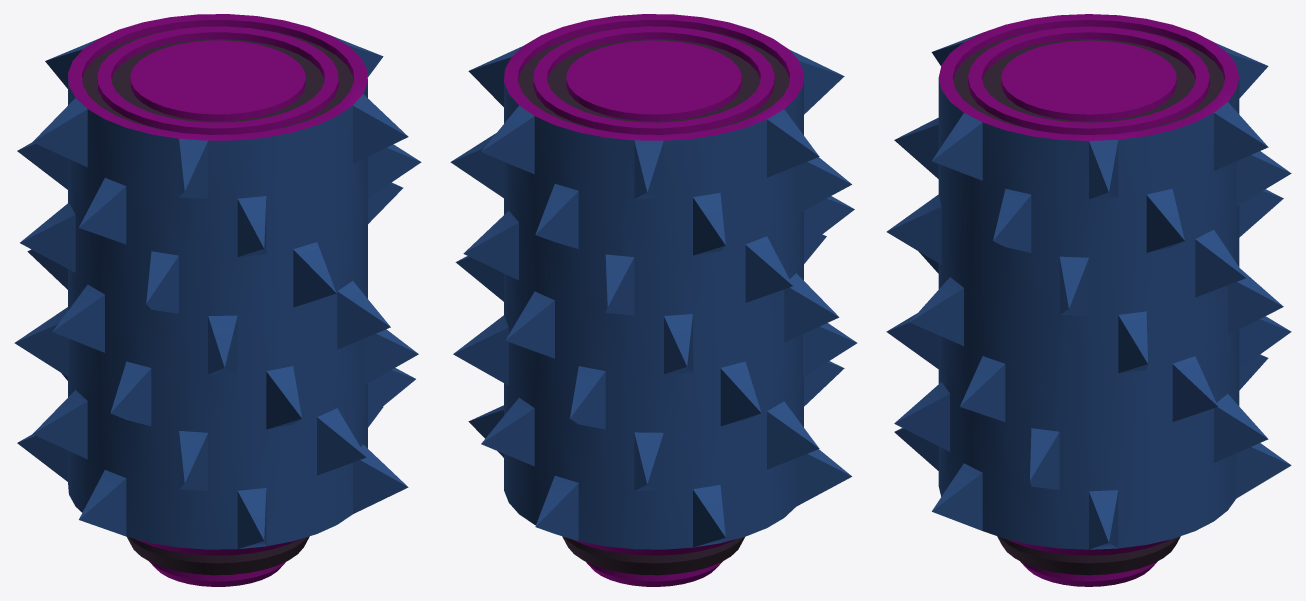
The model's file is Swing Trap End.fbx.
3 renders of one model, left to right at view 1: azimuth 30°, elevation 25°; view 2: azimuth 150°, elevation 25°; view 3: azimuth 270°, elevation 25°, orthographic.
Visible parts, largest first — view 1: Payload; view 2: Payload; view 3: Payload.
Boxes of the visible parts, x1,y1,x2,y2 form: Payload: (14,14,421,586); Payload: (450,14,857,586); Payload: (886,14,1291,586).
Size of the model in its own units: 135 by 177 by 135.
